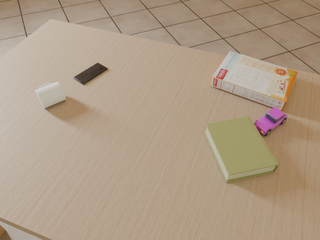book: (204, 116, 279, 182)
box: (211, 51, 297, 111)
cup: (35, 82, 66, 108)
phone: (74, 63, 107, 85)
toy_car: (254, 107, 287, 136)
